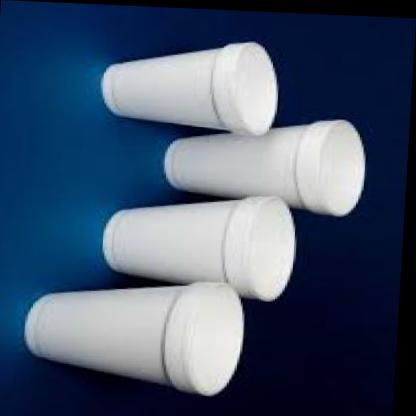trash: (25, 42, 364, 395), (25, 282, 243, 395), (103, 196, 294, 300), (164, 120, 364, 215), (102, 42, 277, 134)
